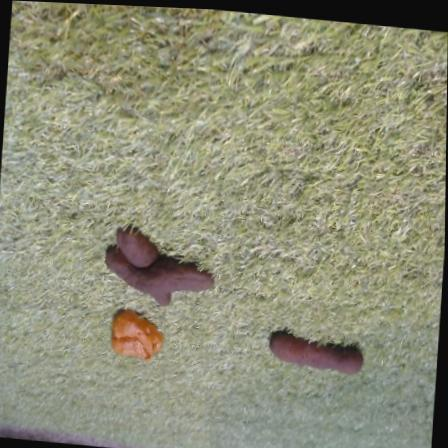dog-poop: (96, 222, 229, 312), (257, 318, 367, 382), (101, 303, 161, 364)
